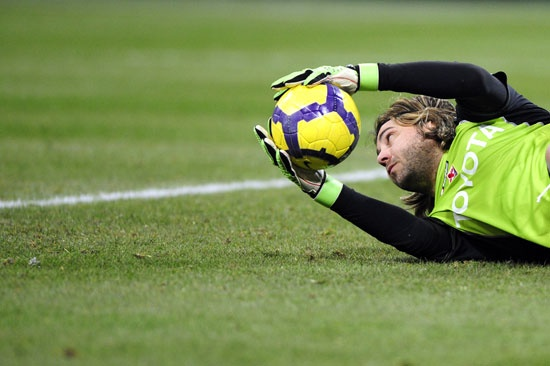falling: (248, 38, 541, 287)
